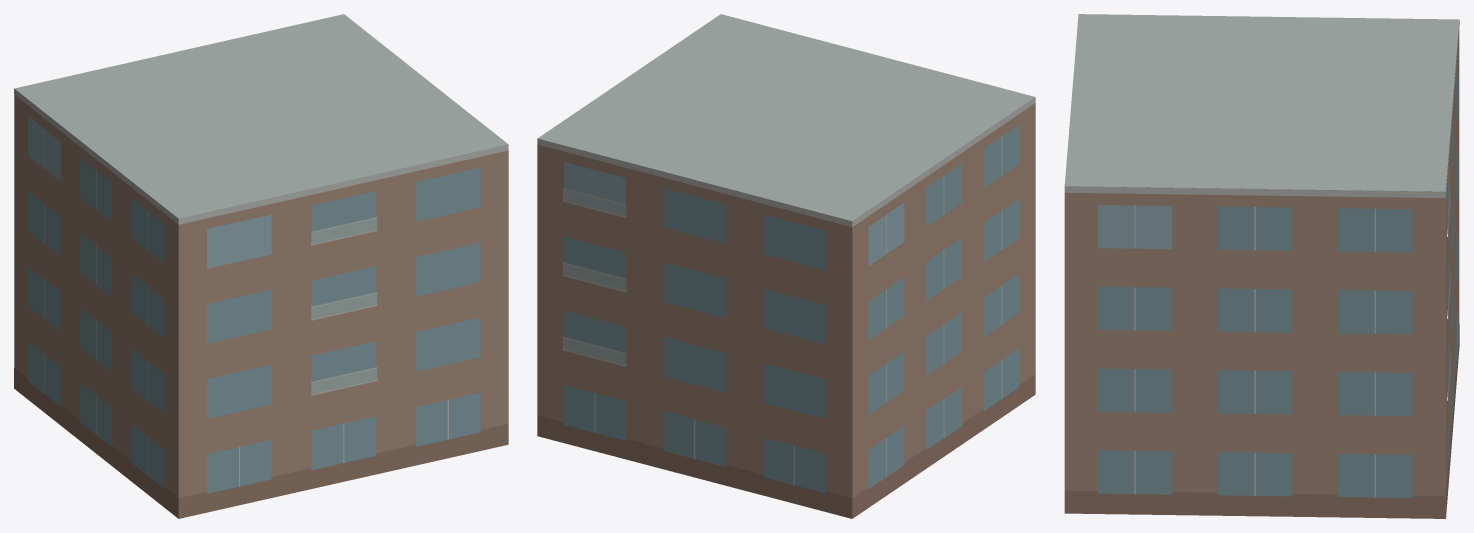
File: residential-caf674a0-a3f6-4c73-a139-db9a81623f22.glb
The picture shows the model from 3 angles, left to right: view 1: azimuth 30°, elevation 25°; view 2: azimuth 150°, elevation 25°; view 3: azimuth 270°, elevation 25°; orthographic projection. The views are drawn at different scales.
Visible parts, largest first — view 1: residential-caf674a0-a3f6-4c73-a139-db9a81623f22.tmp; view 2: residential-caf674a0-a3f6-4c73-a139-db9a81623f22.tmp; view 3: residential-caf674a0-a3f6-4c73-a139-db9a81623f22.tmp.
Part boxes in pixels (x1,y1,x2,y2): residential-caf674a0-a3f6-4c73-a139-db9a81623f22.tmp: [14, 14, 508, 518]; residential-caf674a0-a3f6-4c73-a139-db9a81623f22.tmp: [537, 14, 1035, 518]; residential-caf674a0-a3f6-4c73-a139-db9a81623f22.tmp: [1064, 14, 1459, 518].
Bounding box in the file's own units: 14.21 × 12.2 × 13.35.
